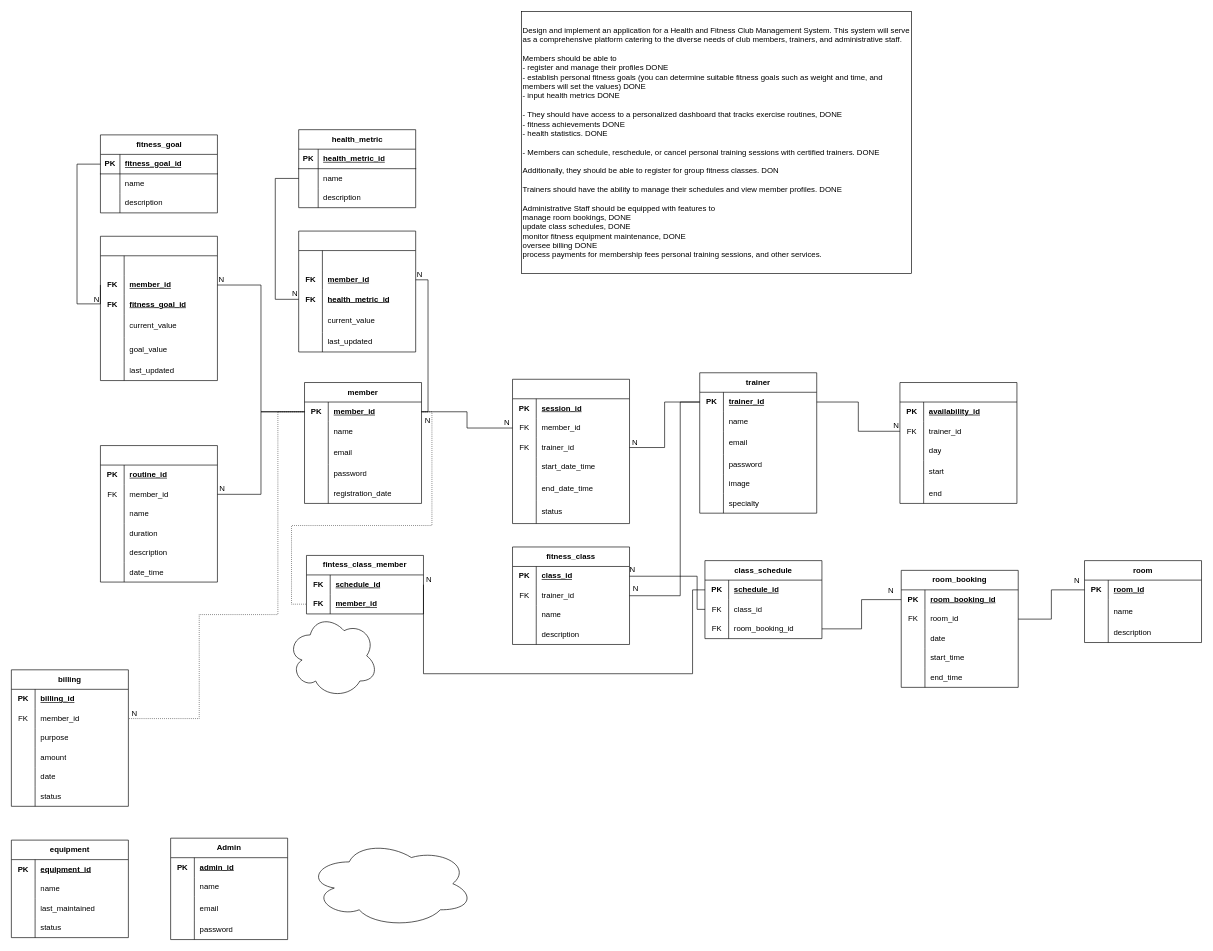
This 1213x951 diagram has some shape labels left out. Here are the shapes that lost their labels. From the top down, the box of each, then its label:
(100, 236, 217, 381): member_goal
(298, 230, 416, 352): member_health_metric
(512, 379, 630, 524): training_session
(899, 382, 1017, 503): trainer_availability
(100, 445, 217, 582): member_routine
(287, 613, 378, 698): join table: M:N relationship for fitness classes and members
(307, 839, 474, 927): admin can manage class schedule, equipment maintenance, and billing tables
